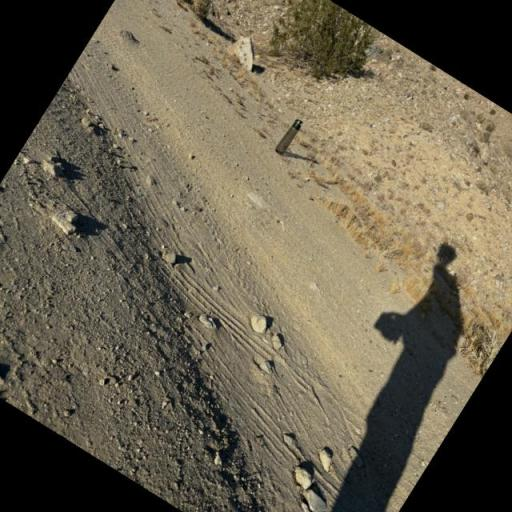bottle: (273, 115, 306, 157)
